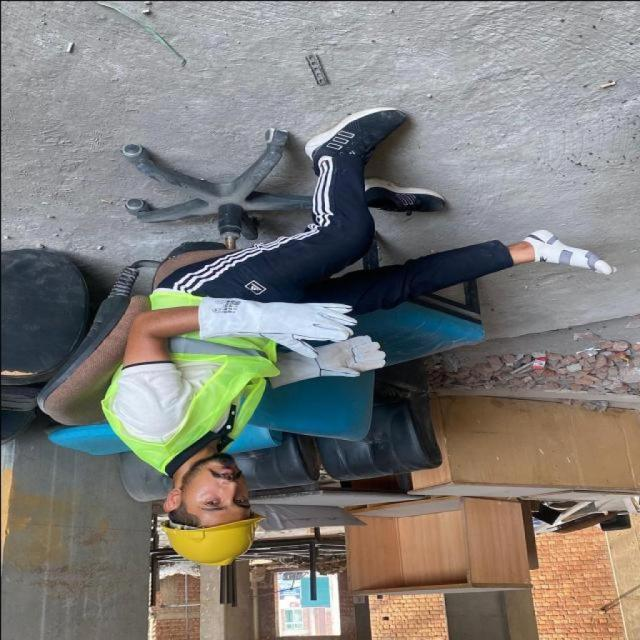Gloves-Detection: (200, 291, 351, 359), (272, 345, 392, 378)
